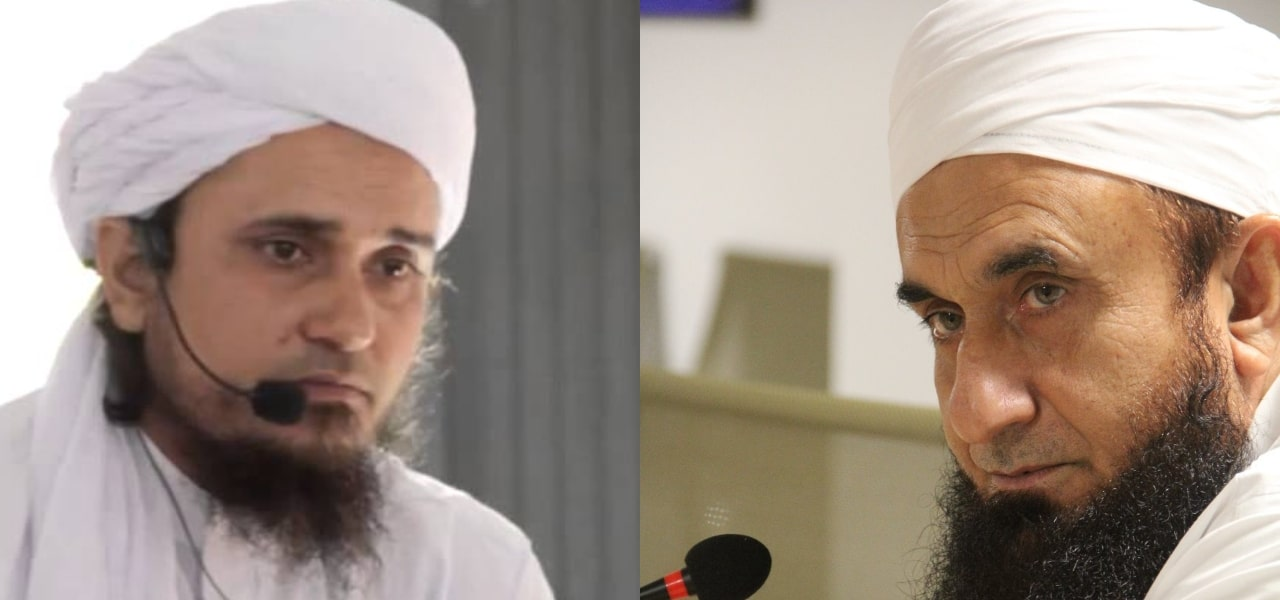NoMask: (903, 225, 1127, 517), (224, 199, 451, 480)
